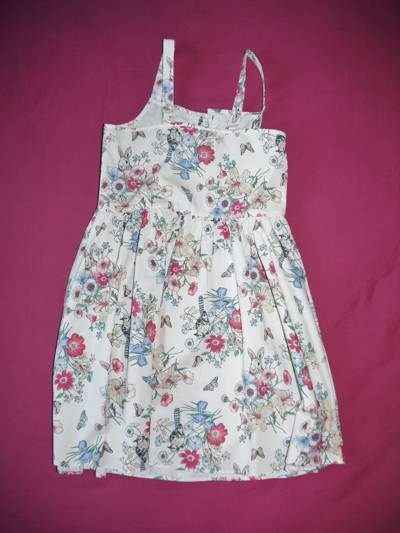Dress: (27, 62, 349, 497)
